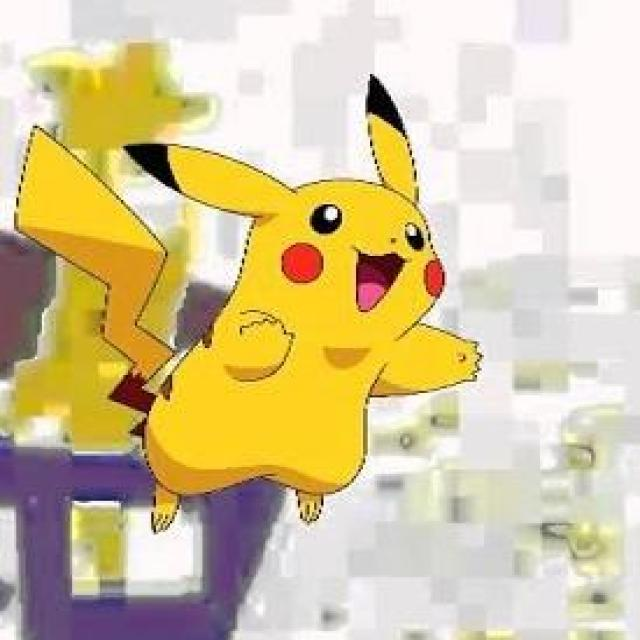pikachu: (16, 76, 481, 533)
